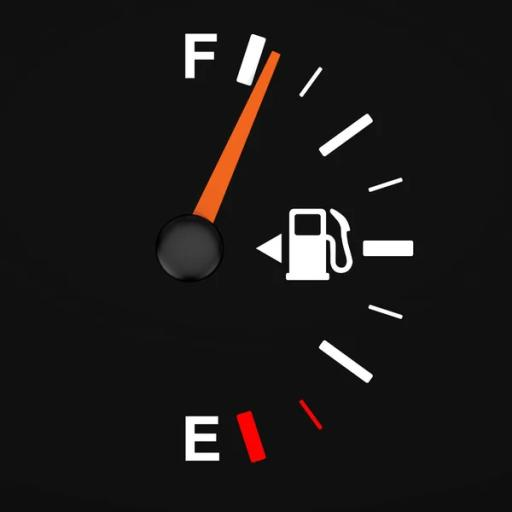empty: (177, 409, 227, 471)
fuel_icon: (285, 198, 359, 294)
full: (178, 31, 222, 81)
guage_area: (10, 11, 500, 492)
needle_center: (154, 196, 228, 305)
needle_tip: (262, 44, 286, 88)
